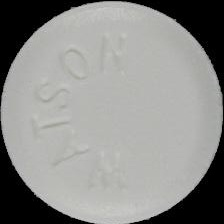49999-122: (0, 0, 224, 224)
